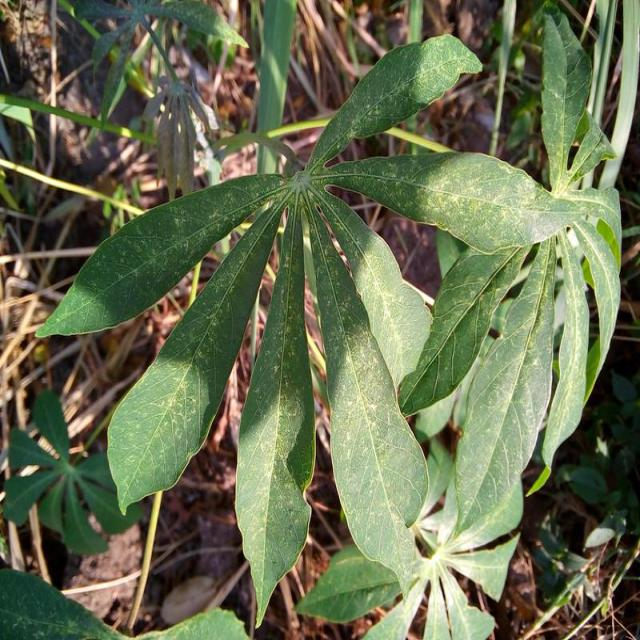cassava leaf: (33, 21, 620, 630), (105, 191, 286, 515), (304, 192, 430, 596), (34, 171, 284, 339)
